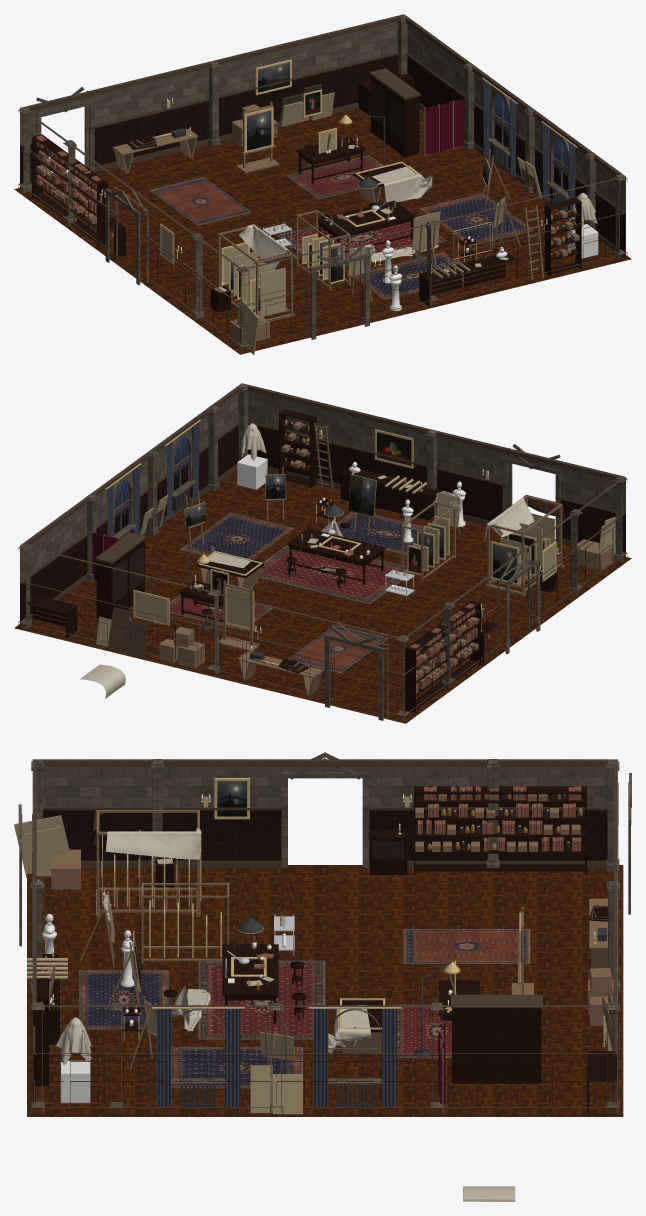
File: conservation_lab.glb
3 views of the same model, one above another, from view 1: azimuth 30°, elevation 25°; view 2: azimuth 150°, elevation 25°; view 3: azimuth 270°, elevation 25° (orthographic). The views are drawn at different scales.
Parts seen in each view (by area): view 1: ConservationLab; view 2: ConservationLab; view 3: ConservationLab.
Part boxes in pixels (<box>): ConservationLab: <box>14,14,631,354</box>; ConservationLab: <box>14,383,631,723</box>; ConservationLab: <box>14,752,631,1201</box>.
Size of the model in its own units: 16.23 by 6.77 by 16.58.
34 materials, 18 textured.
